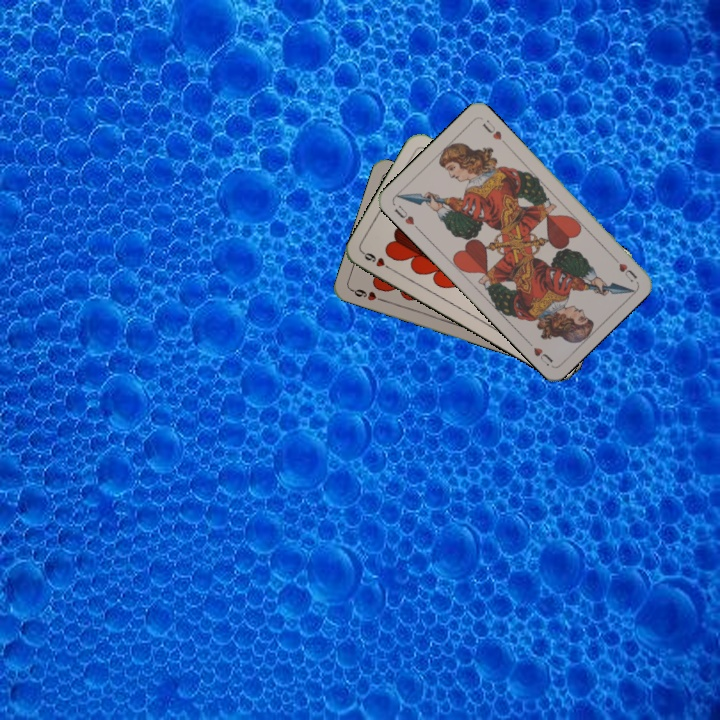H9: (359, 248, 396, 274), (348, 285, 387, 305)
HU: (608, 251, 640, 284), (390, 201, 422, 233)
